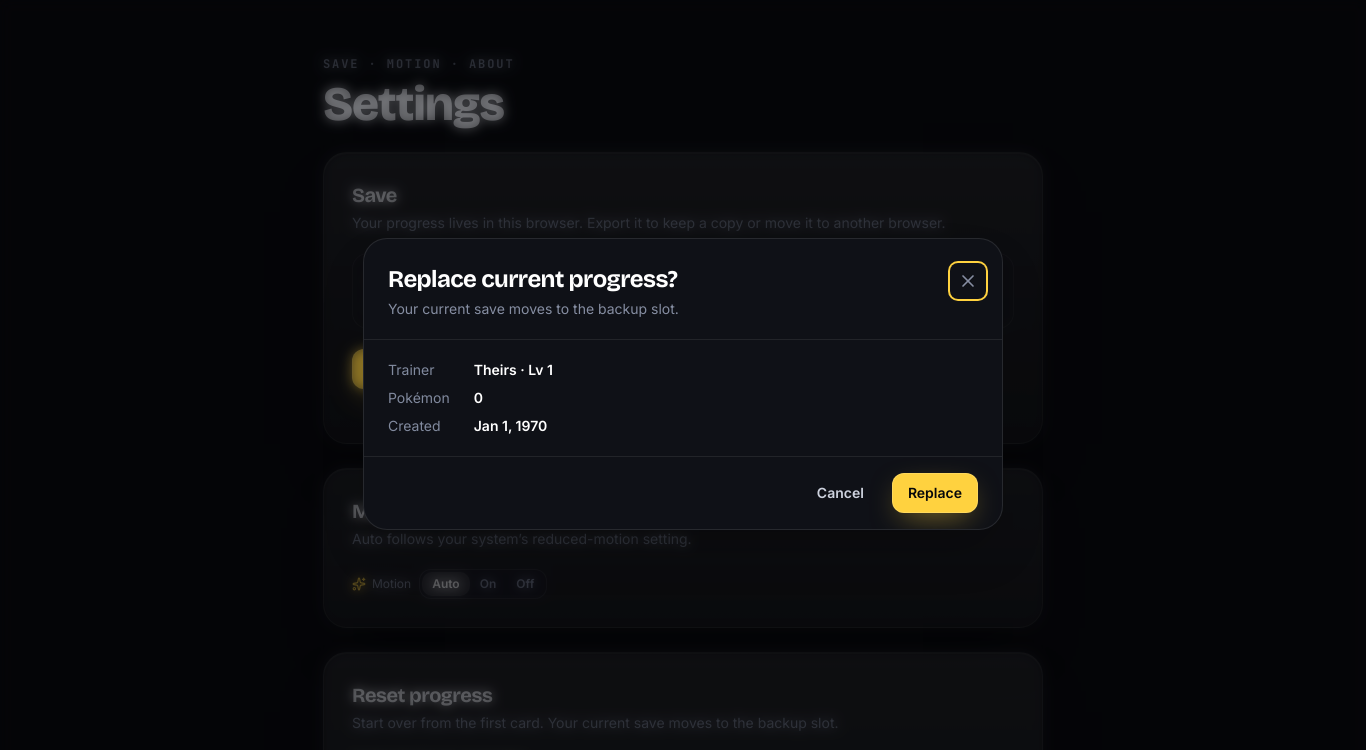
Scenario: SettingsPage › imports a file after the confirm dialog and keeps the old save as backup
Earlier steps of the test are not shown.
Expected: the button "Export save" is shown, [352,349,488,389]
Expected: the text "Your current save moves to the backup slot." is shown, [388,299,679,319]
Click the button "Replace": (935, 493) [892,473,978,513]
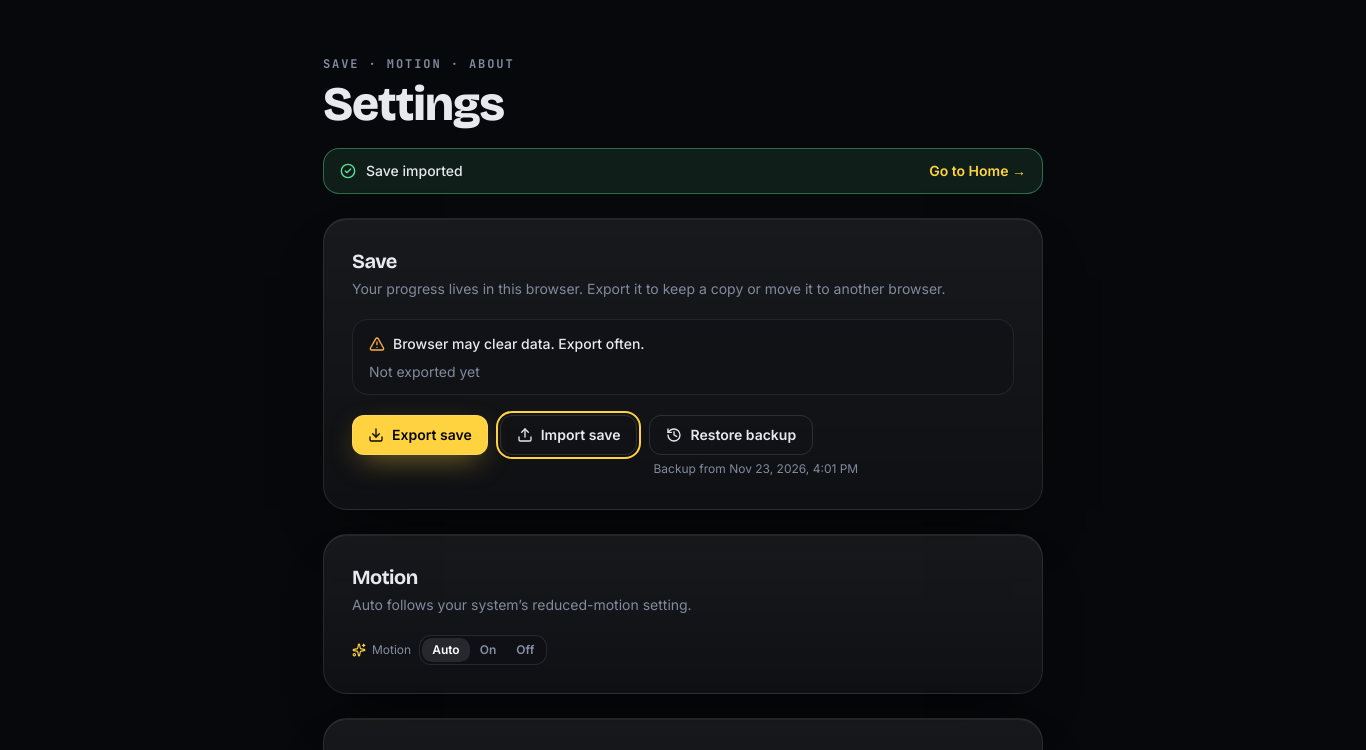
Now the message reads "Save imported", box [366,162,463,179]
Now the link "Go to Home →" is shown, box [929,161,1026,181]
Now the text "Backup from Nov 23, 2026, 4:01 PM" is shown, box [650,461,862,481]
